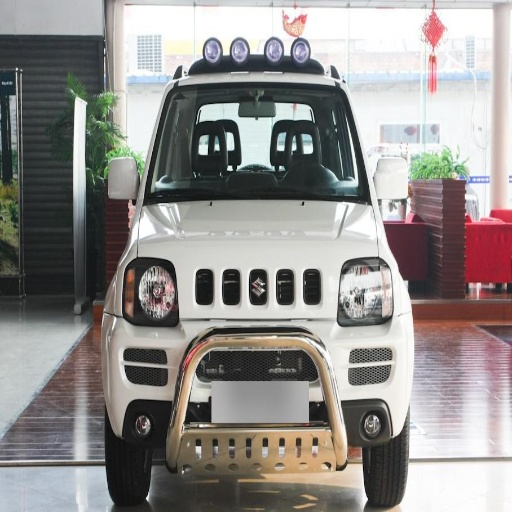front_bumper: (103, 315, 217, 446), (322, 318, 409, 425), (197, 257, 267, 304)
front_right_light: (116, 260, 176, 323)
hood: (137, 200, 376, 269)
left_mirror: (376, 157, 410, 201)
right_mirror: (107, 157, 138, 204)
trunk: (214, 419, 308, 468)
